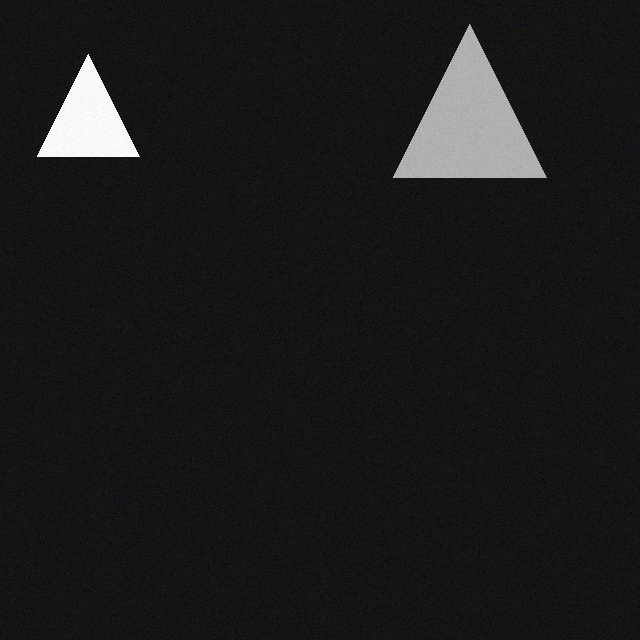triangle: (405, 19, 558, 172), (49, 49, 151, 151)
